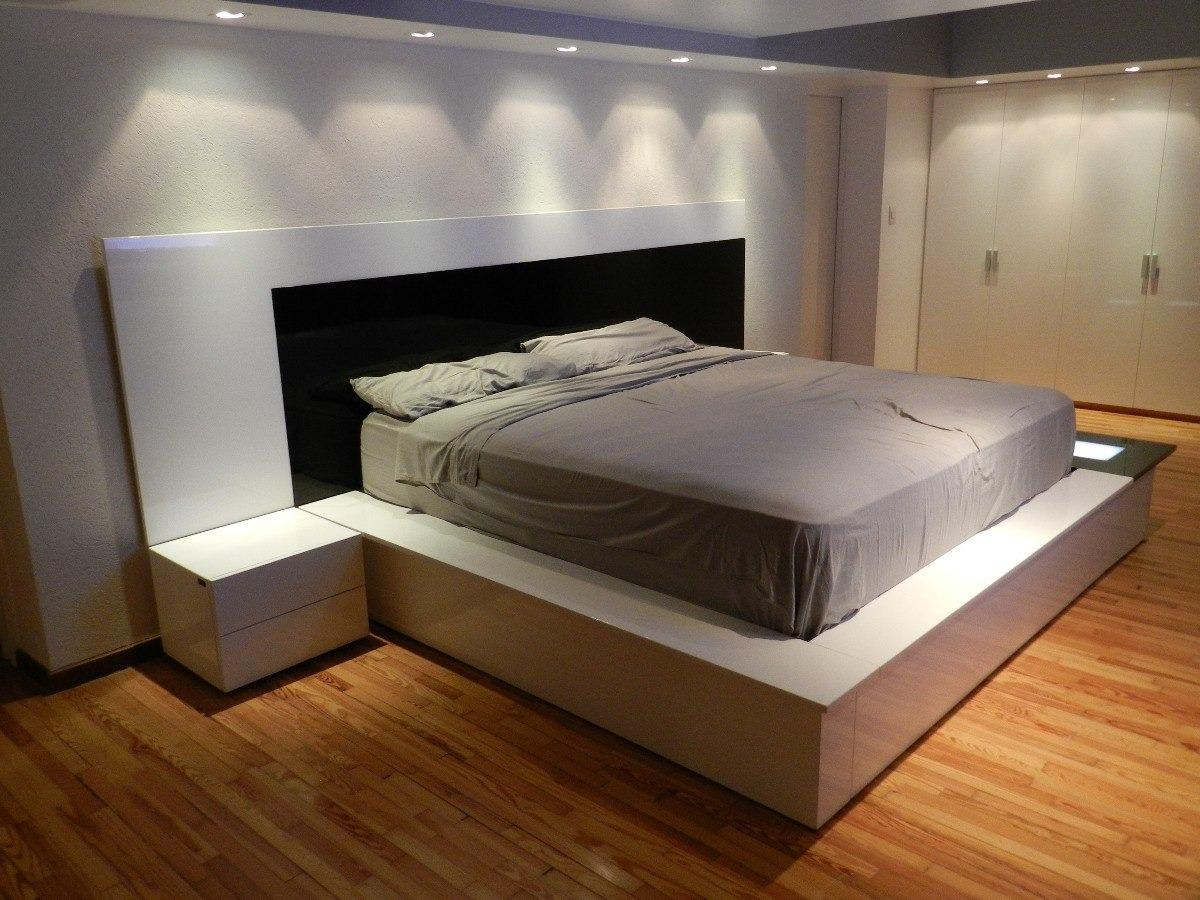bed: (288, 300, 1120, 662)
